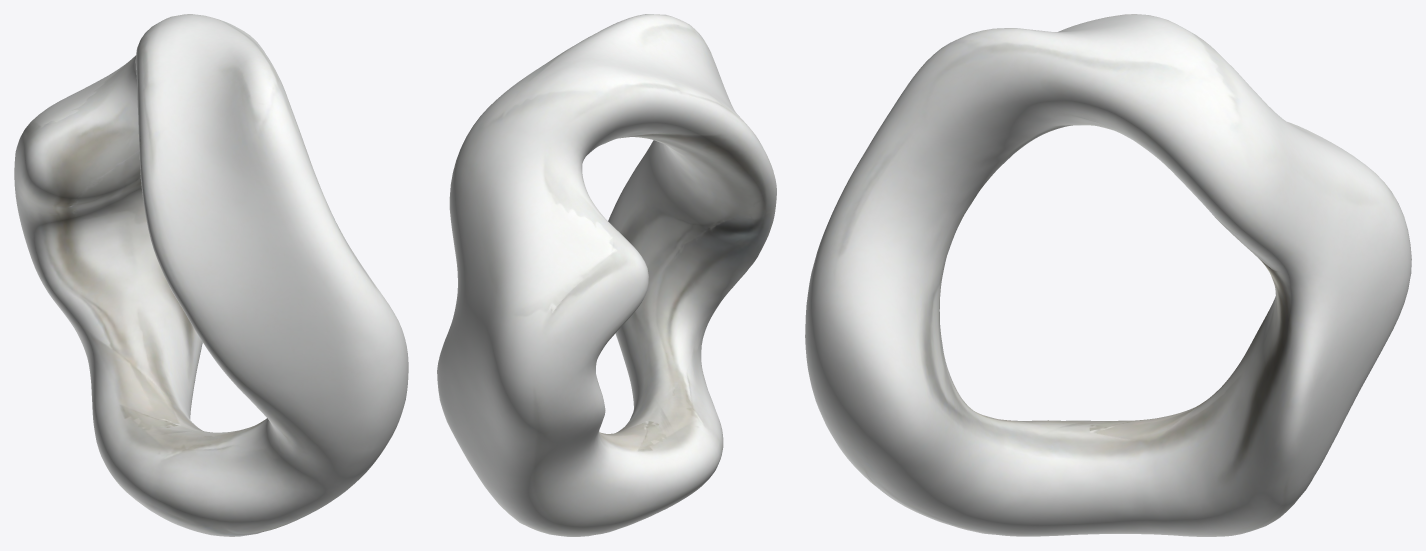
The model's file is Ethereal_o_0110005857_texture.glb.
3 views of the same model, side by side, from view 1: azimuth 30°, elevation 25°; view 2: azimuth 150°, elevation 25°; view 3: azimuth 270°, elevation 25° (orthographic). The views are drawn at different scales.
Size of the model in its own units: 0.9013 by 1.91 by 2.
Materials: 1 (1 with a texture image).
